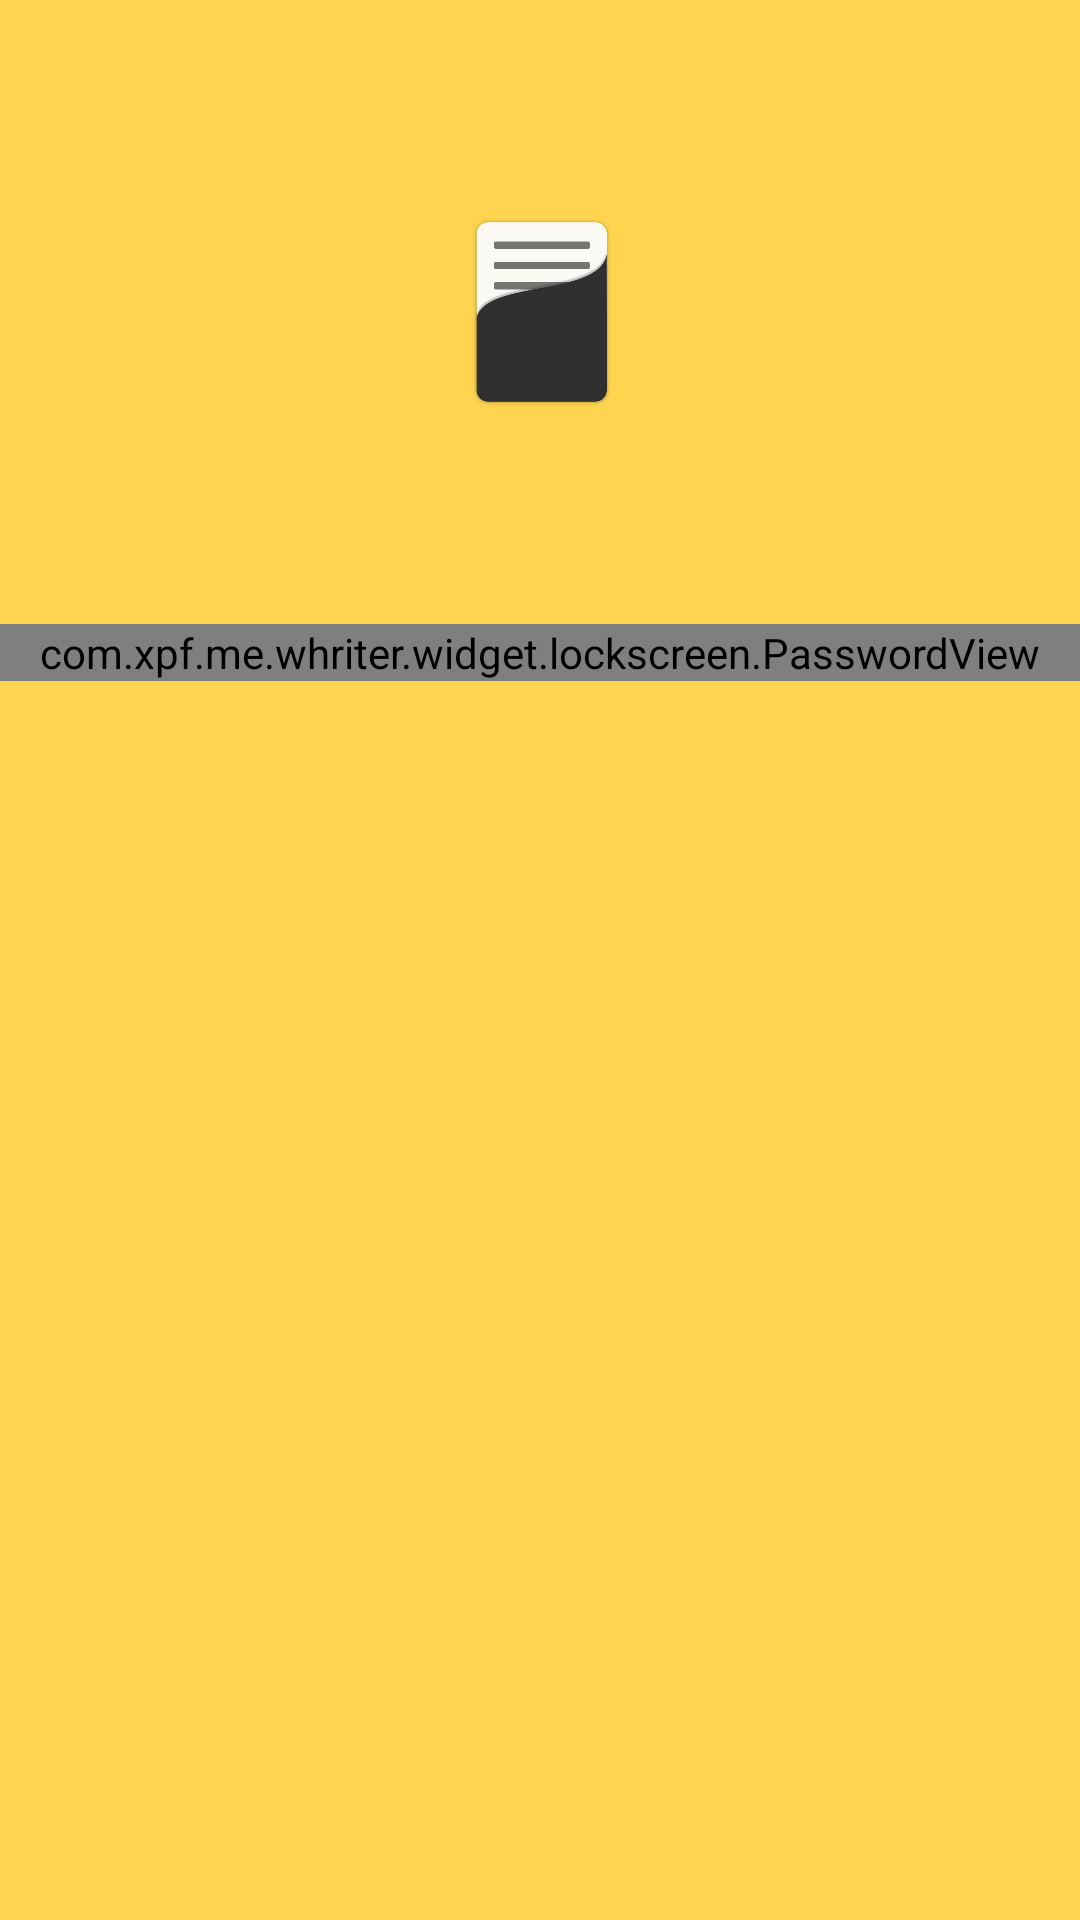

Named icons in this screenshot (1080x1920) and their bounding boxes, (x1, y1, x2, y2):
whriter: (475, 221, 608, 403)
